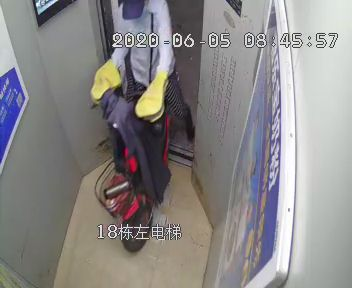Electric-bicycle: (92, 108, 178, 253)
